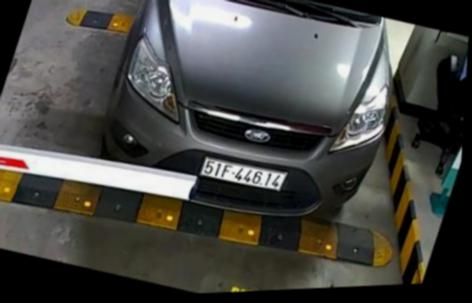License_Plate: (191, 147, 292, 204)
